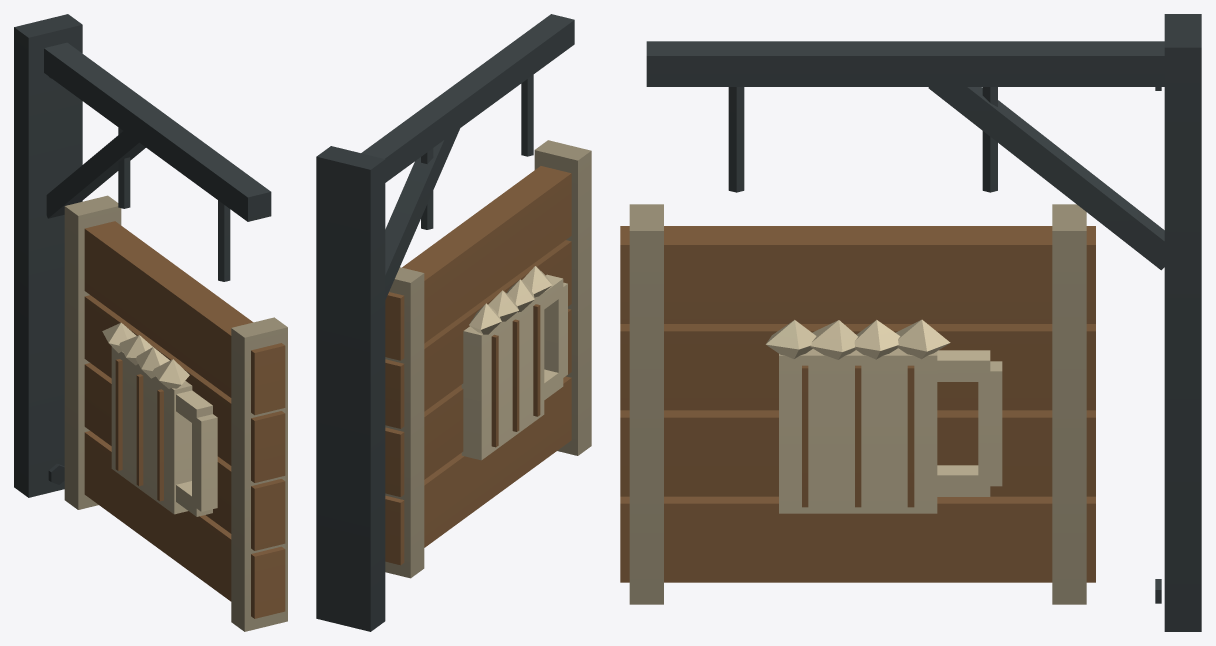
The model's file is town_sign_inn.glb.
3 views of the same model, side by side, from view 1: azimuth 30°, elevation 25°; view 2: azimuth 150°, elevation 25°; view 3: azimuth 270°, elevation 25° (orthographic). The views are drawn at different scales.
Visible parts, largest first — view 1: town_sign_inn; view 2: town_sign_inn; view 3: town_sign_inn.
Part boxes in pixels (x1,y1,x2,y2): town_sign_inn: (14, 14, 287, 631); town_sign_inn: (316, 14, 591, 631); town_sign_inn: (620, 14, 1201, 631).
Size of the model in its own units: 0.25 by 1.22 by 1.1.
